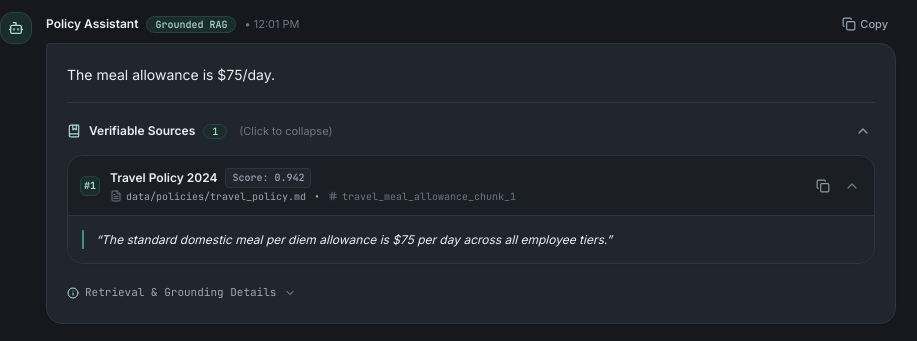
Scenario: ChatMessage (Policy) › renders grounded assistant response with citations and copy button
Check: the text "Policy Assistant" is shown, box [46, 16, 138, 32]
Check: the text "The meal allowance is $75/day." is shown, box [67, 66, 275, 82]
Click the button with aria-label "copy answer": (865, 24) [834, 12, 896, 36]
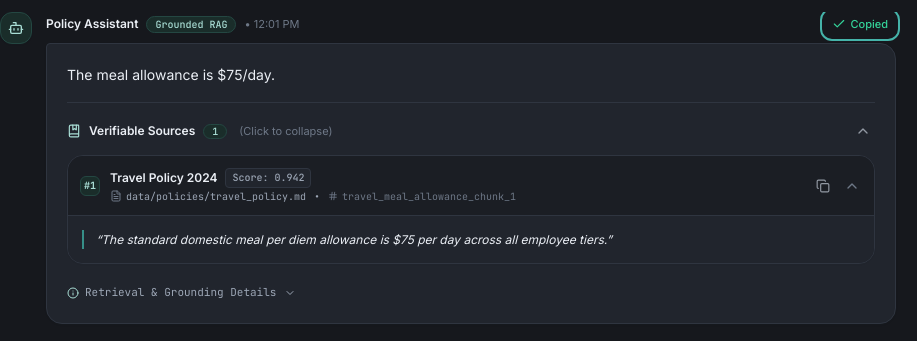
Check: the text "Copied" is shown, box [850, 16, 888, 32]
